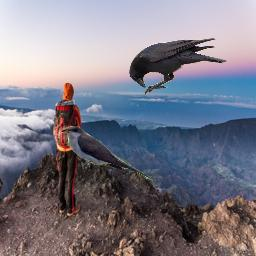Crow: (129, 38, 227, 95)
Cuckoo: (60, 126, 153, 182)
